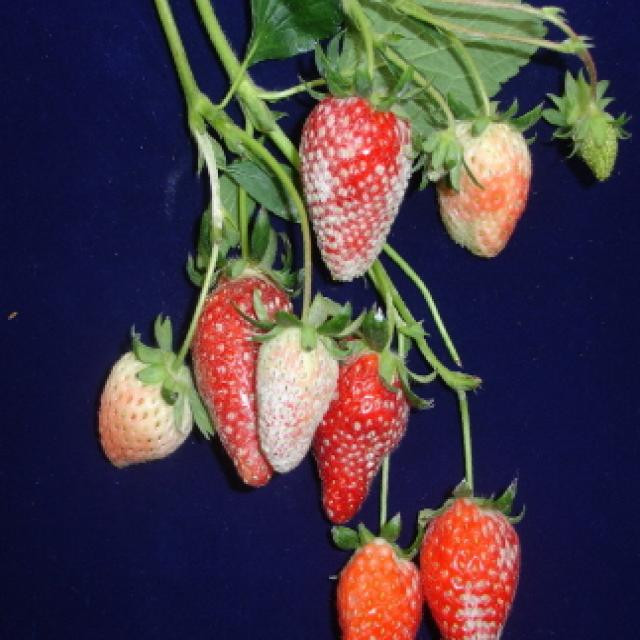Powdery Mildew Fruit: (192, 262, 298, 488), (298, 82, 417, 282), (310, 341, 410, 527), (416, 490, 520, 640), (257, 322, 341, 476), (335, 534, 421, 640)
